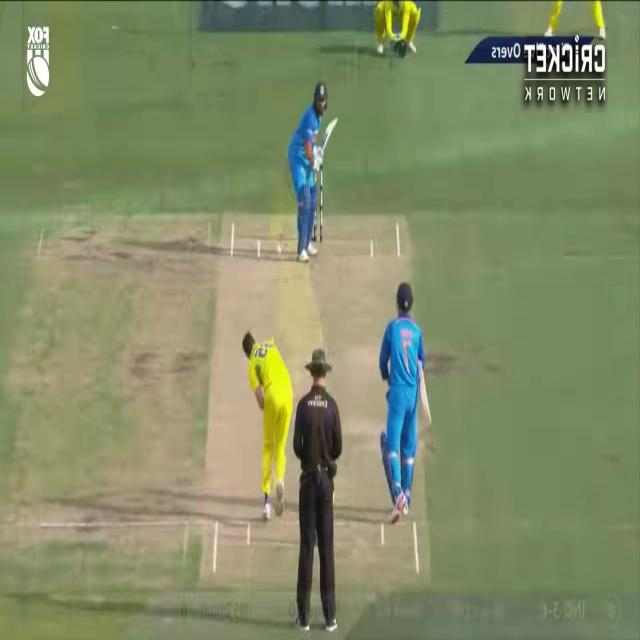ball: (278, 244, 282, 255)
stump: (314, 163, 322, 244)
